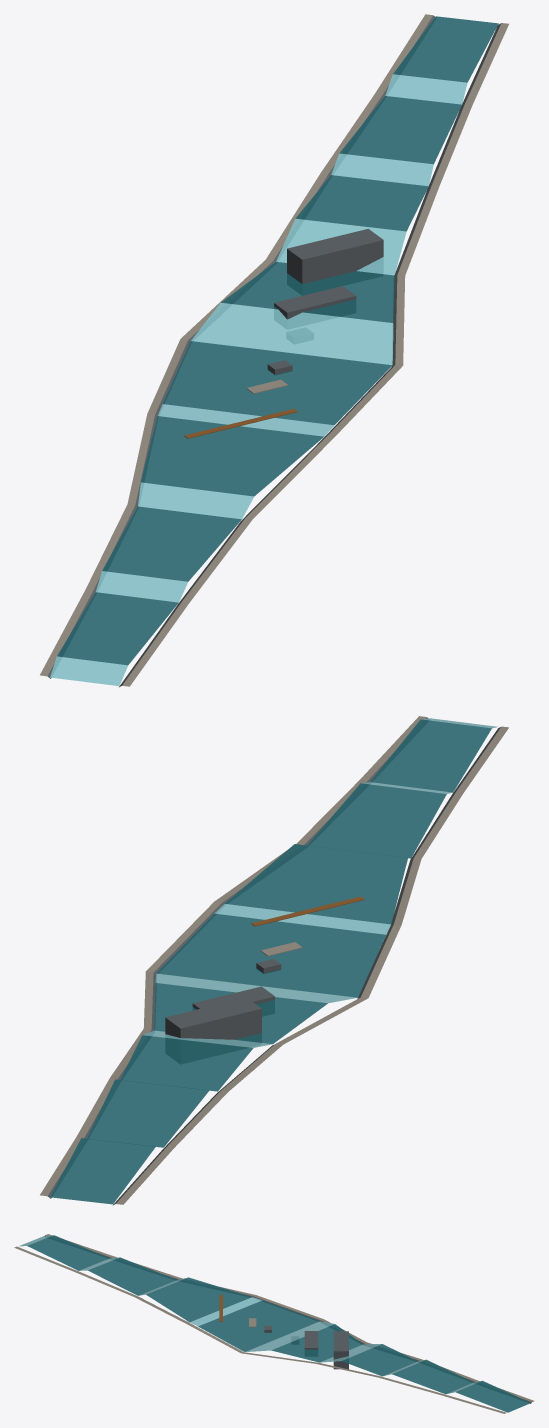
File: water_thac_7_tang_ta_nung.glb
3 views of the same model, one above another, from view 1: azimuth 30°, elevation 25°; view 2: azimuth 210°, elevation 25°; view 3: azimuth 270°, elevation 25° (orthographic). The views are drawn at different scales.
Visible parts, largest first — view 1: water_terraces_water_thac_7_tang_ta_nung, waterfall_curtain_water_thac_7_tang_ta_nung, canyon_walkway_water_thac_7_tang_ta_nung, ta_nung_seven_tier_upper_basalt_granite_cliff, basalt_canyon_embankments_water_thac_7_tang_ta_nung, ta_nung_seven_tier_lower_mossy_terrace_ledge; view 2: water_terraces_water_thac_7_tang_ta_nung, canyon_walkway_water_thac_7_tang_ta_nung, waterfall_curtain_water_thac_7_tang_ta_nung, ta_nung_seven_tier_upper_basalt_granite_cliff, basalt_canyon_embankments_water_thac_7_tang_ta_nung, ta_nung_seven_tier_lower_mossy_terrace_ledge; view 3: water_terraces_water_thac_7_tang_ta_nung, canyon_walkway_water_thac_7_tang_ta_nung, waterfall_curtain_water_thac_7_tang_ta_nung, ta_nung_seven_tier_upper_basalt_granite_cliff, ta_nung_seven_tier_lower_mossy_terrace_ledge, basalt_canyon_embankments_water_thac_7_tang_ta_nung.
Part boxes in pixels (x1,y1,x2,y2): water_terraces_water_thac_7_tang_ta_nung: (57,16,498,665); waterfall_curtain_water_thac_7_tang_ta_nung: (50,74,467,685); canyon_walkway_water_thac_7_tang_ta_nung: (40,14,508,686); ta_nung_seven_tier_upper_basalt_granite_cliff: (287,228,383,284); basalt_canyon_embankments_water_thac_7_tang_ta_nung: (47,15,501,687); ta_nung_seven_tier_lower_mossy_terrace_ledge: (274,286,356,319); water_terraces_water_thac_7_tang_ta_nung: (50,719,491,1204); canyon_walkway_water_thac_7_tang_ta_nung: (40,716,508,1204); waterfall_curtain_water_thac_7_tang_ta_nung: (142,718,497,1047); ta_nung_seven_tier_upper_basalt_granite_cliff: (165,997,261,1039); basalt_canyon_embankments_water_thac_7_tang_ta_nung: (47,717,500,1205); ta_nung_seven_tier_lower_mossy_terrace_ledge: (192,986,274,1009); water_terraces_water_thac_7_tang_ta_nung: (27,1235,530,1412); canyon_walkway_water_thac_7_tang_ta_nung: (14,1234,534,1413); waterfall_curtain_water_thac_7_tang_ta_nung: (19,1235,480,1393); ta_nung_seven_tier_upper_basalt_granite_cliff: (333,1331,348,1369); ta_nung_seven_tier_lower_mossy_terrace_ledge: (304,1331,318,1349); basalt_canyon_embankments_water_thac_7_tang_ta_nung: (45,1235,531,1403).
Bounding box in the file's own units: 591 × 57.45 × 576.
